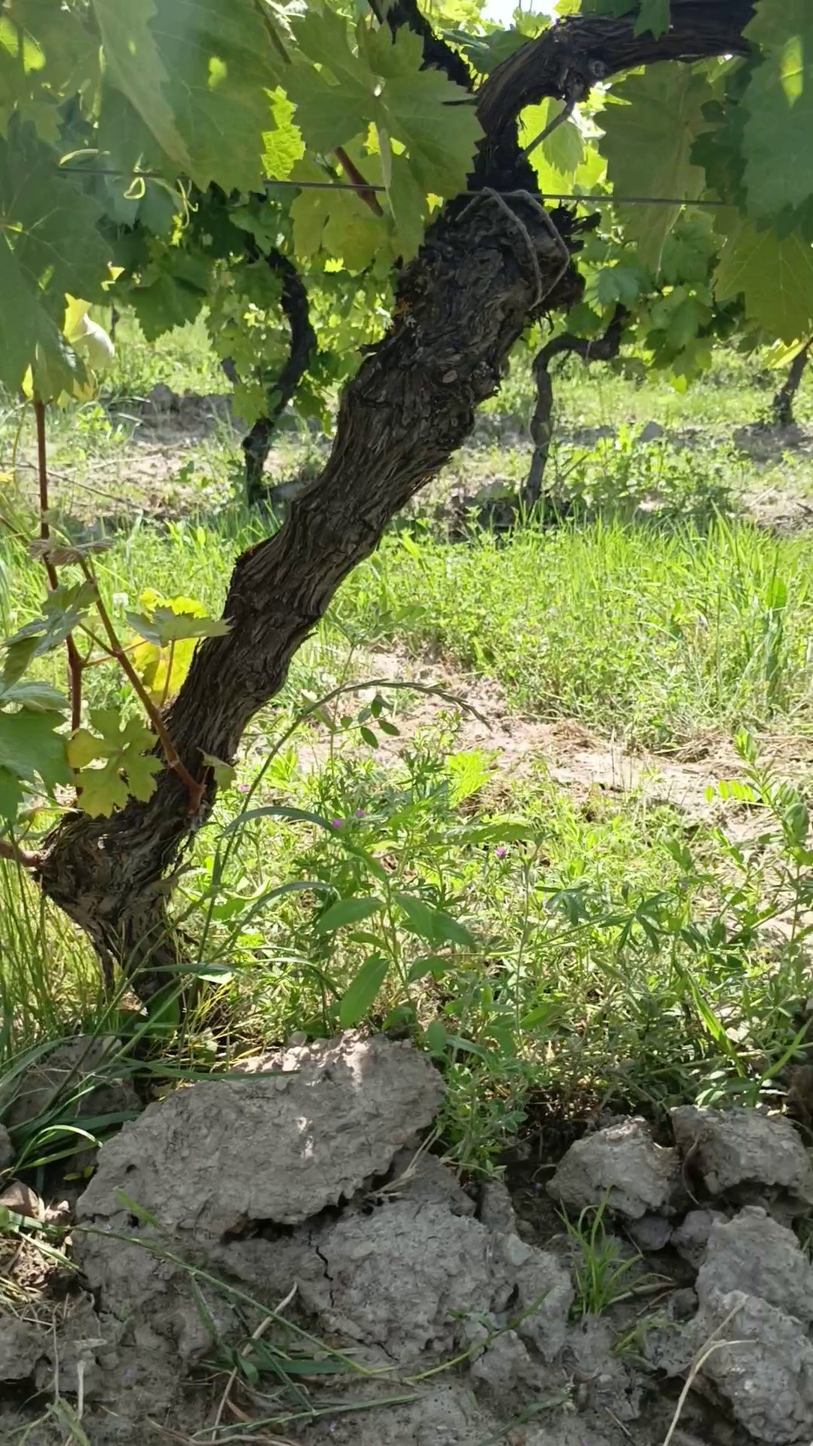vine_trunk: (167, 0, 754, 777), (35, 764, 214, 997)
